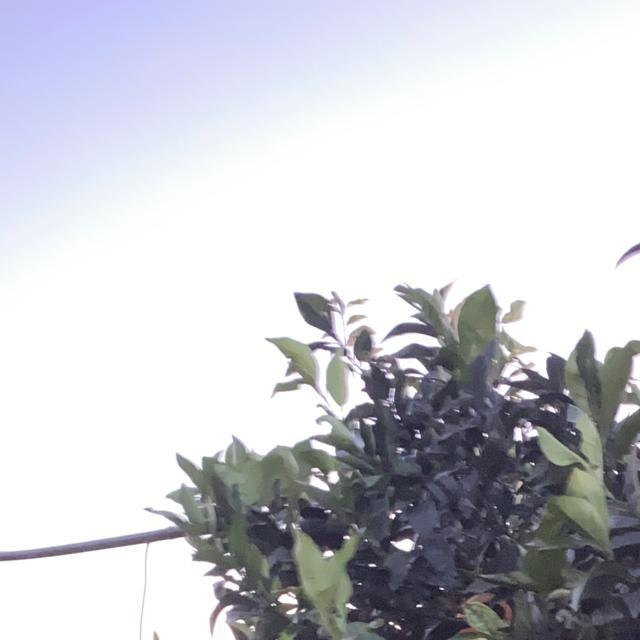orange: (457, 597, 511, 627)
